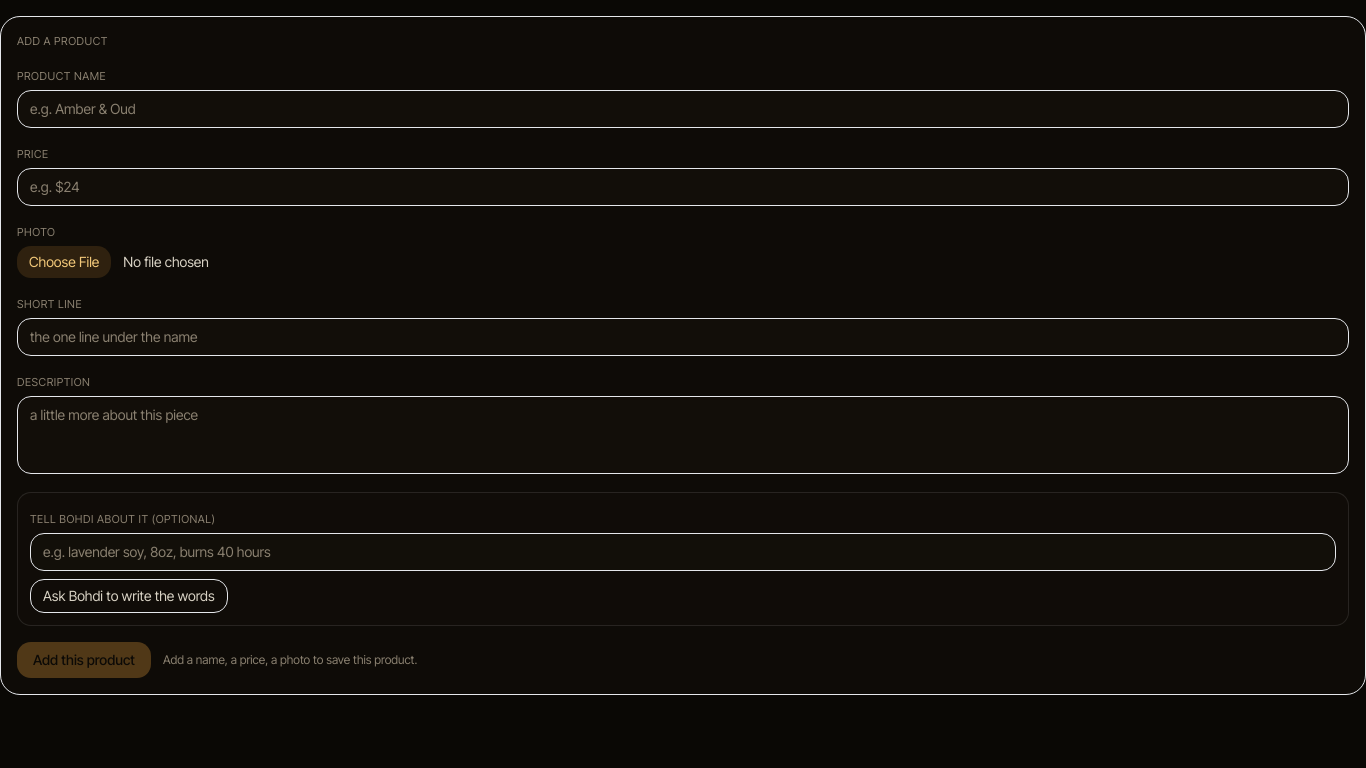
Test case: ProductsEditor › Ask Bohdi fills the word fields from the draft
Type "Amber" into the field labelled "Product name" at (683, 108), box [17,90,1349,128]
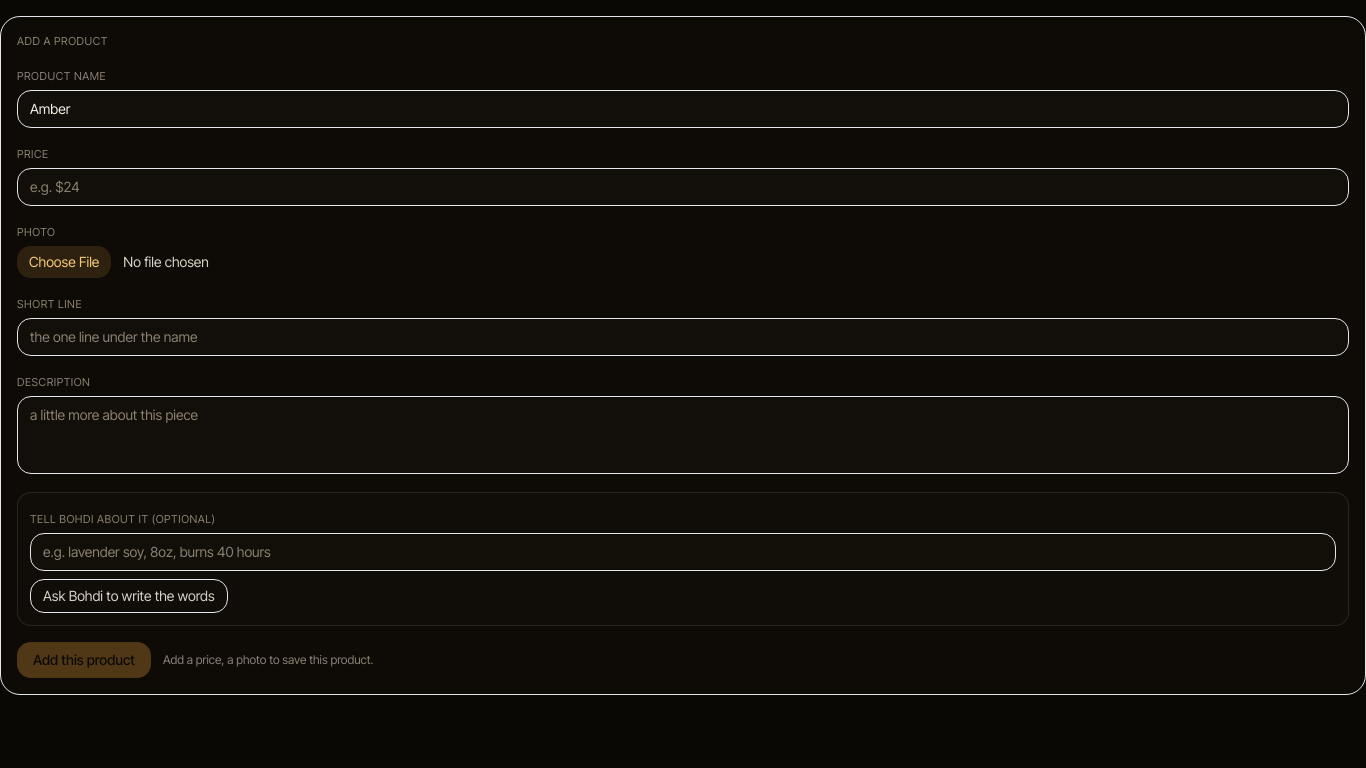
Type "lavender" into the field labelled "Tell Bohdi about it (optional)" at (683, 552), box [30,532,1336,570]
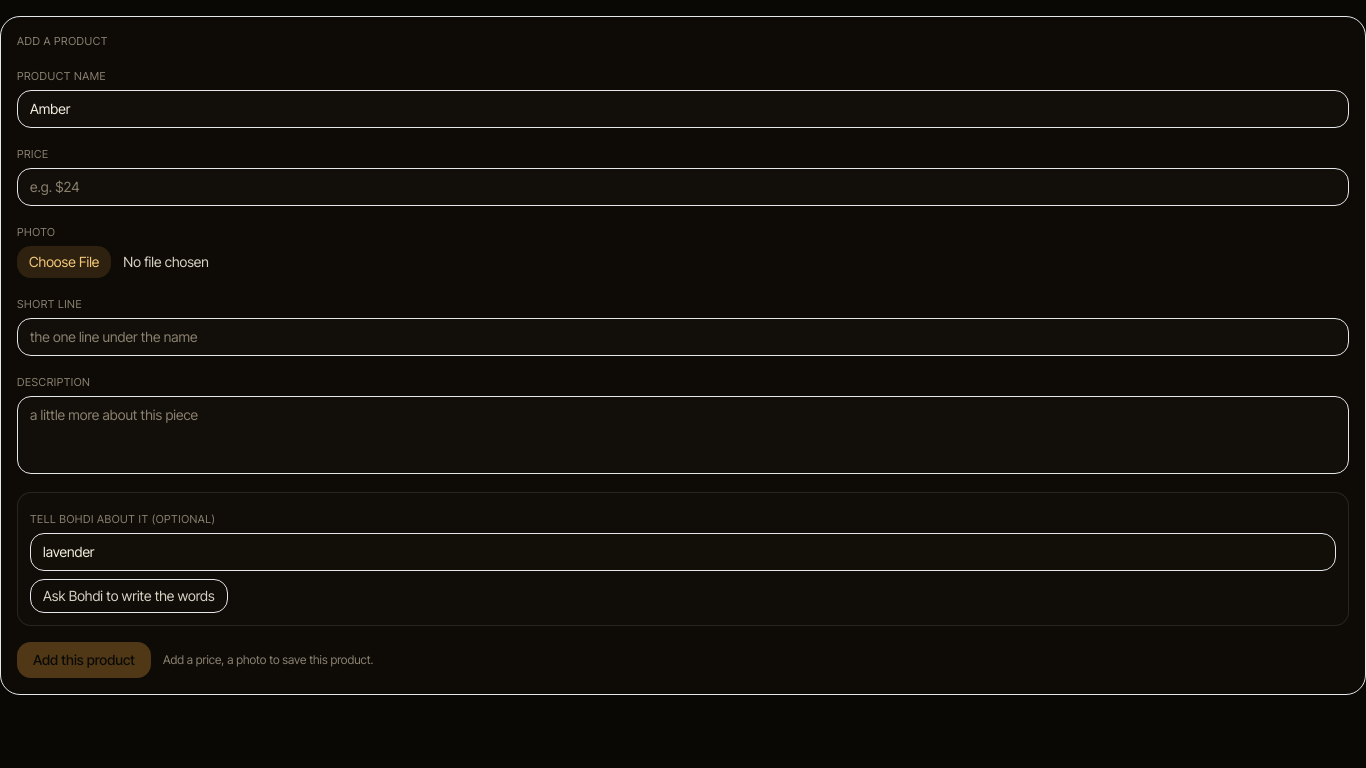
Click the button "Ask Bohdi to write the words" at (129, 596), box [30,578,228,612]
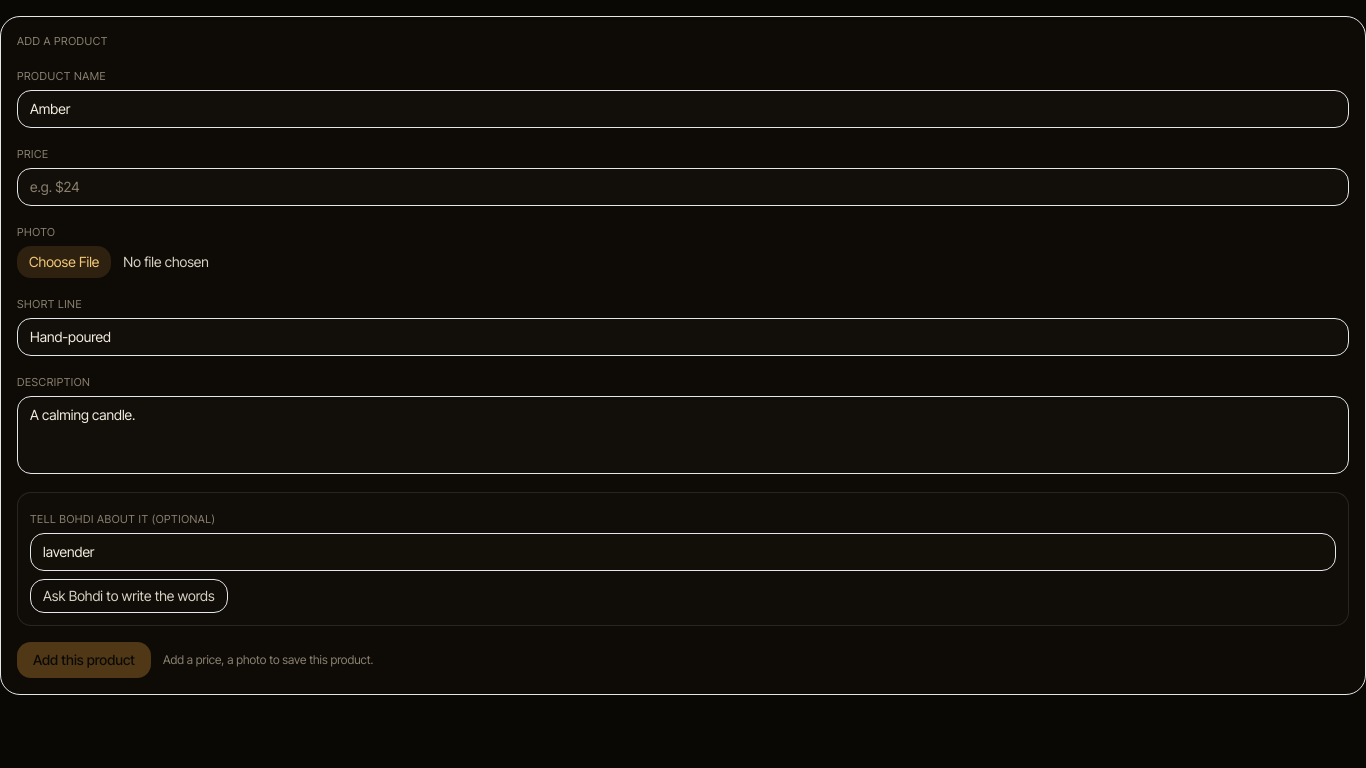
expect the field showing "Hand-poured" is shown: met, box [17,318,1349,356]
expect the text box showing "A calming candle." is shown: met, box [17,396,1349,474]
